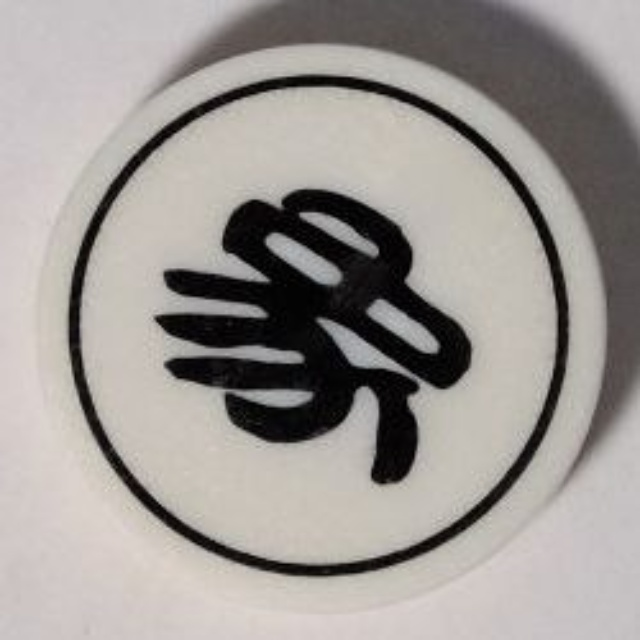black_bo: (28, 39, 613, 622)
